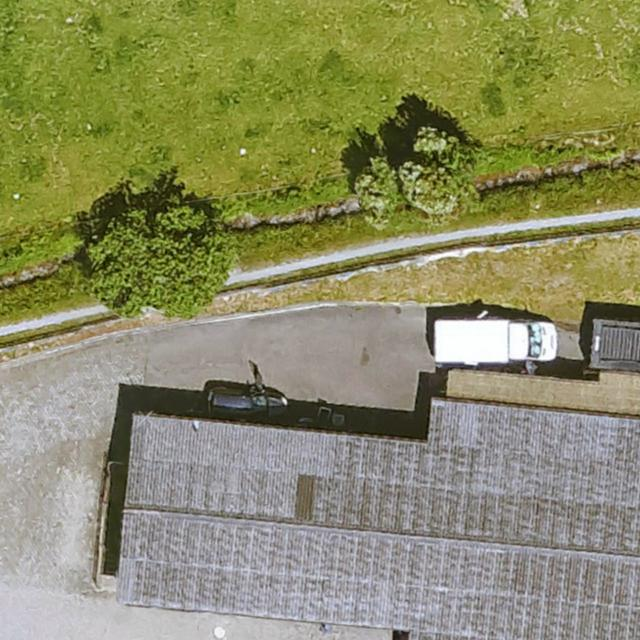tree: (87, 206, 228, 321), (398, 127, 464, 217), (352, 159, 402, 230)
